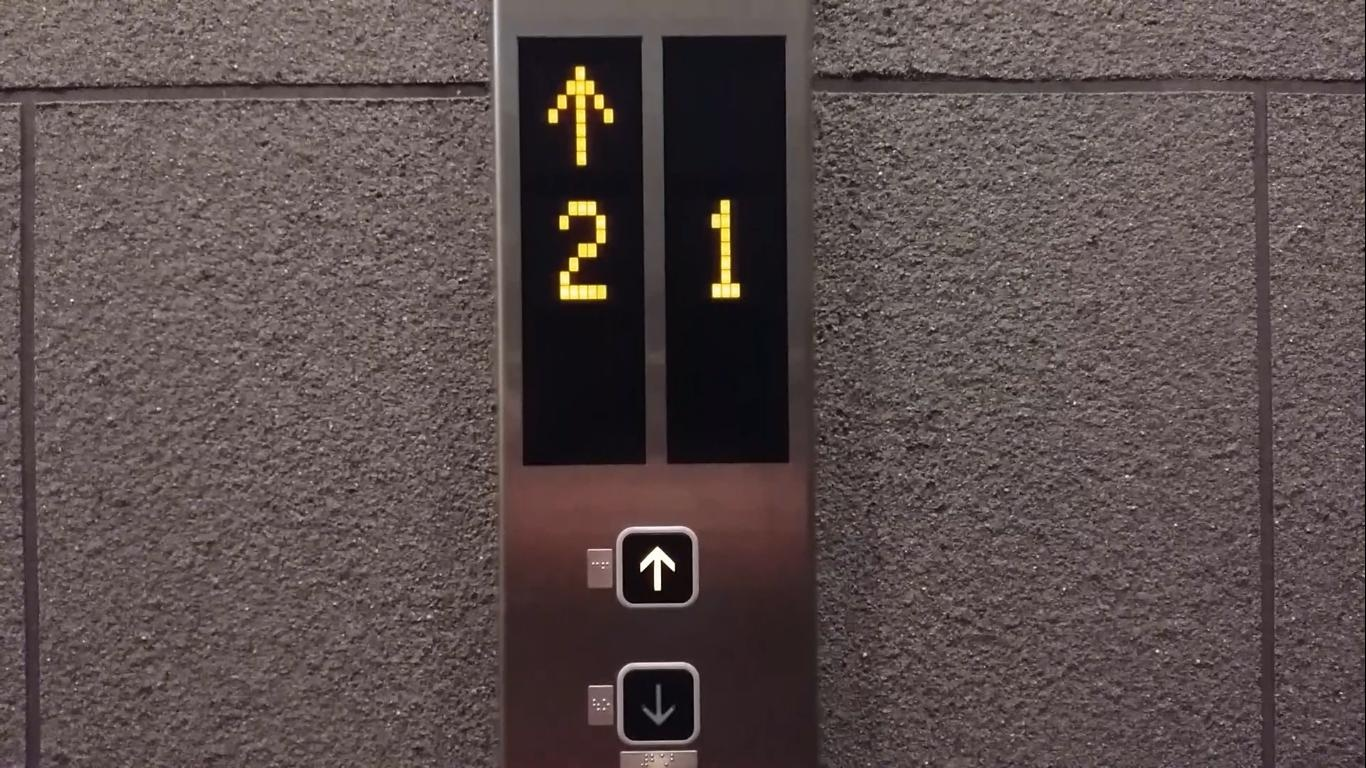down: (617, 663, 699, 745)
led: (509, 27, 650, 471), (657, 30, 797, 470)
up: (617, 526, 698, 608)
